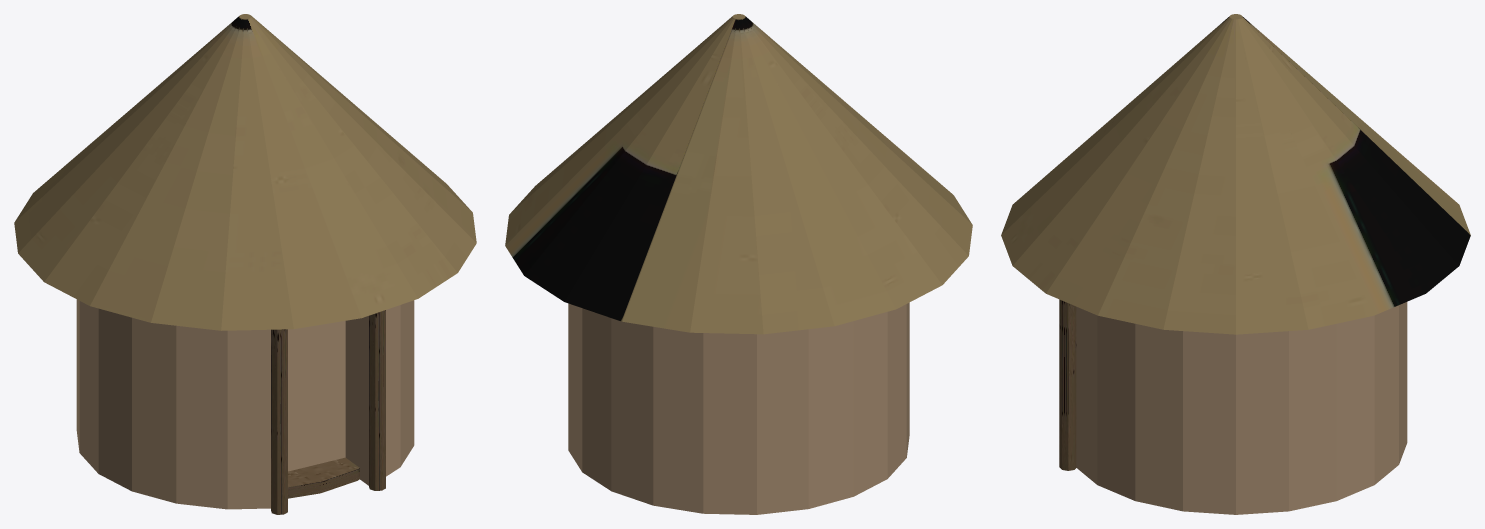
Rendered from chatka_lepianka.glb.
3 views of the same model, side by side, from view 1: azimuth 30°, elevation 25°; view 2: azimuth 150°, elevation 25°; view 3: azimuth 270°, elevation 25° (orthographic).
Parts seen in each view (by area): view 1: chatka_strzecha, chatkaA_glina, chatkaA_drewno; view 2: chatka_strzecha, chatkaA_glina; view 3: chatka_strzecha, chatkaA_glina, chatkaA_drewno.
Part boxes in pixels (box(x1,y1,x2,y2)): chatka_strzecha: box(14, 14, 476, 330); chatkaA_glina: box(76, 299, 414, 509); chatkaA_drewno: box(271, 310, 385, 514); chatka_strzecha: box(505, 14, 972, 334); chatkaA_glina: box(568, 302, 909, 514); chatka_strzecha: box(1001, 14, 1470, 334); chatkaA_glina: box(1076, 302, 1407, 514); chatkaA_drewno: box(1059, 299, 1076, 470).
Bounding box in the file's own units: 3.7 × 3.71 × 3.7.
4 materials, 3 textured.
